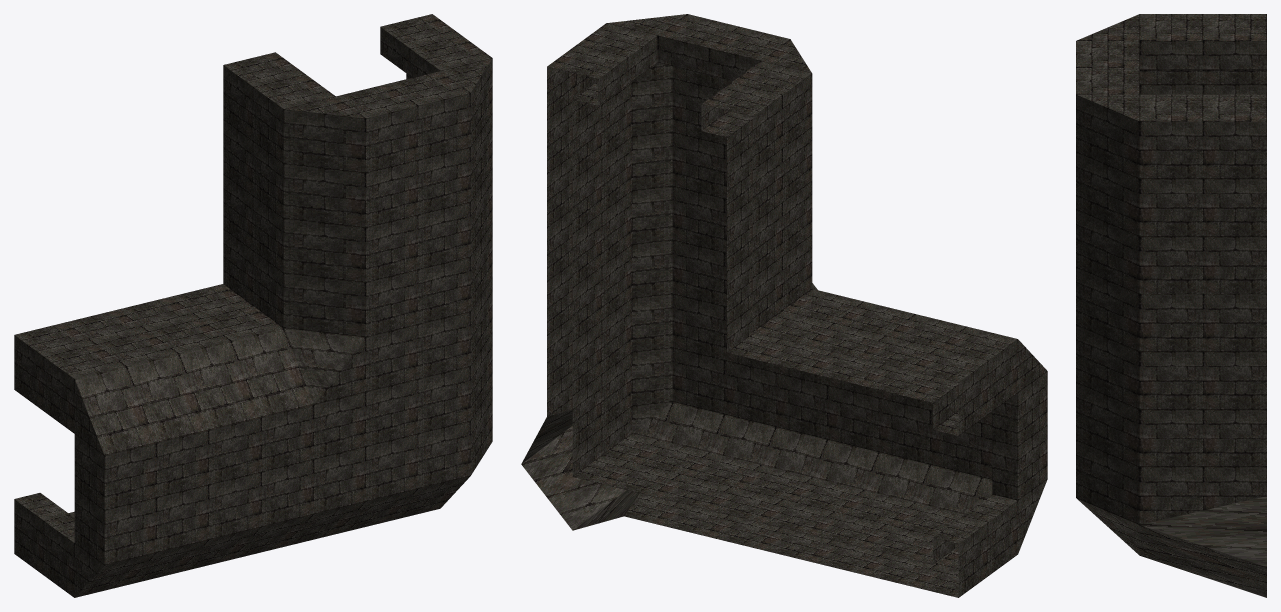
Rendered from building4.obj.
3 views of the same model, side by side, from view 1: azimuth 30°, elevation 25°; view 2: azimuth 150°, elevation 25°; view 3: azimuth 270°, elevation 25° (orthographic). The views are drawn at different scales.
Bounding box in the file's own units: 544 × 544 × 192.
